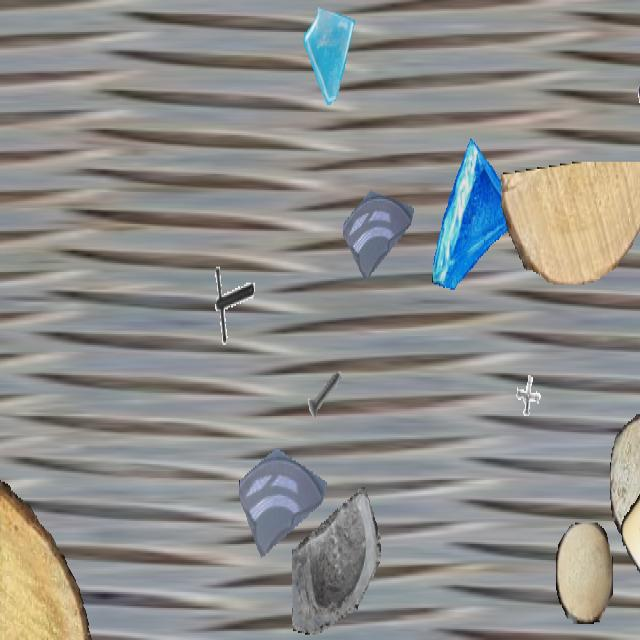glass: (430, 137, 524, 304), (292, 482, 380, 638), (239, 416, 327, 572), (343, 162, 415, 290), (302, 2, 360, 105)
metal: (206, 261, 254, 347), (606, 87, 640, 190), (304, 357, 346, 432), (510, 361, 550, 432)
plastic: (618, 384, 640, 576)
wood: (501, 162, 640, 282), (0, 471, 95, 638), (556, 523, 612, 622), (610, 414, 640, 542)
